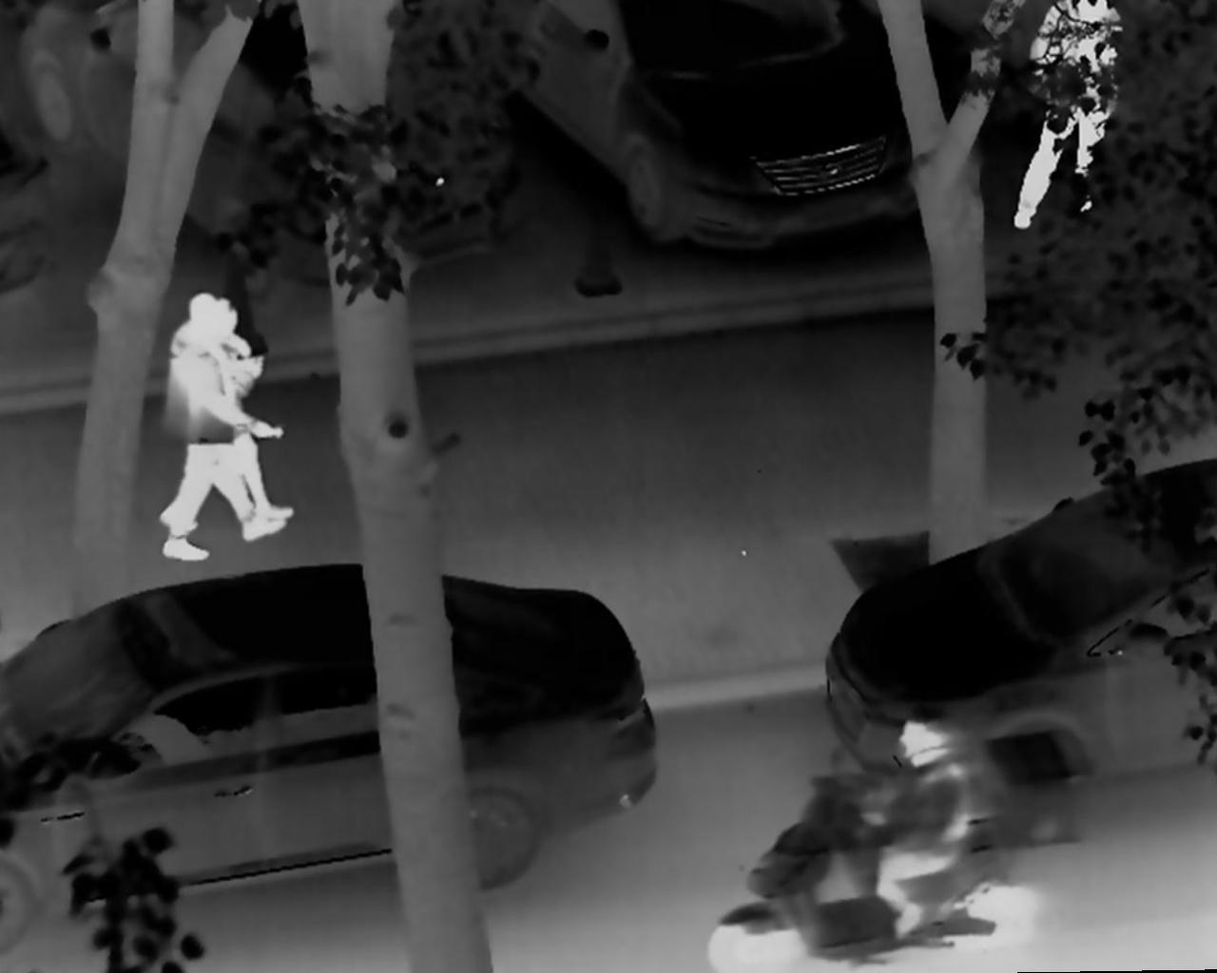person: (154, 293, 295, 530), (162, 298, 288, 562), (851, 710, 970, 944)
